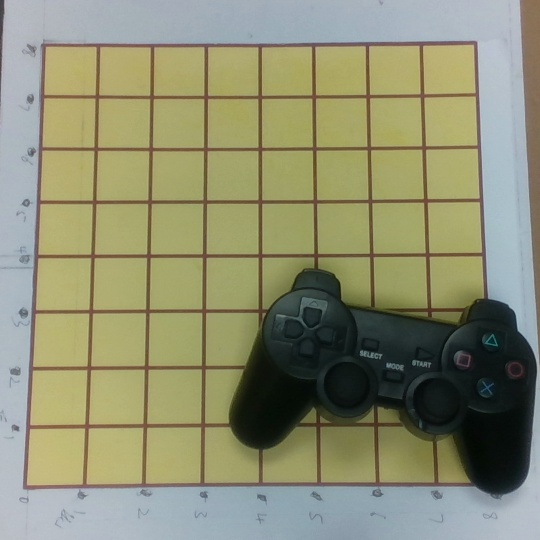remote: (229, 267, 536, 499)
